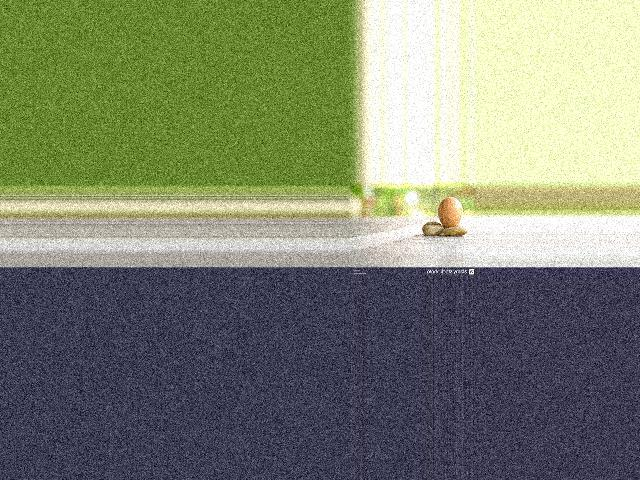egg: (437, 197, 462, 227)
